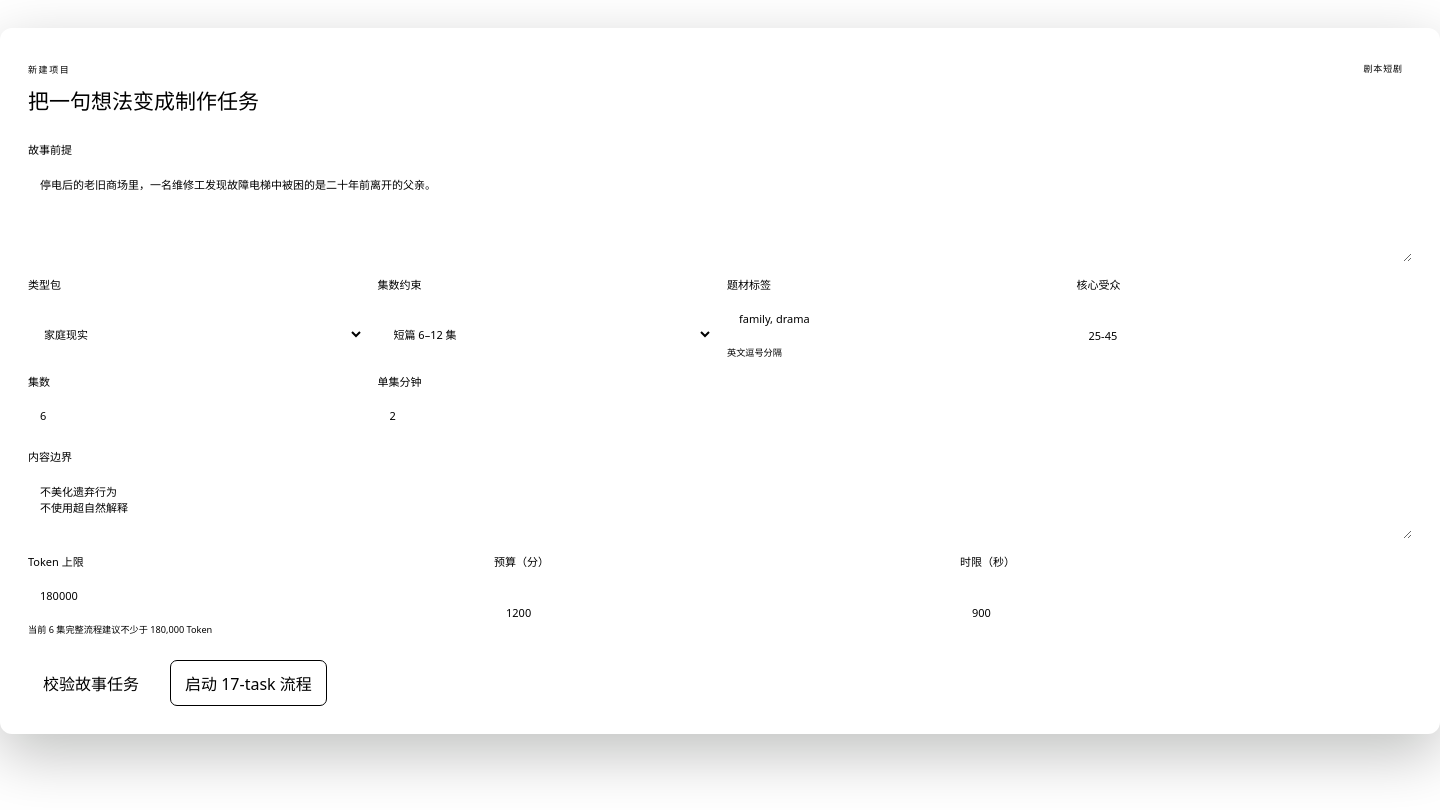
Test case: StoryJobForm › 任务校验 › 应该显示校验失败错误
Click the button "校验故事任务" at (91,683), box [28,660,154,706]
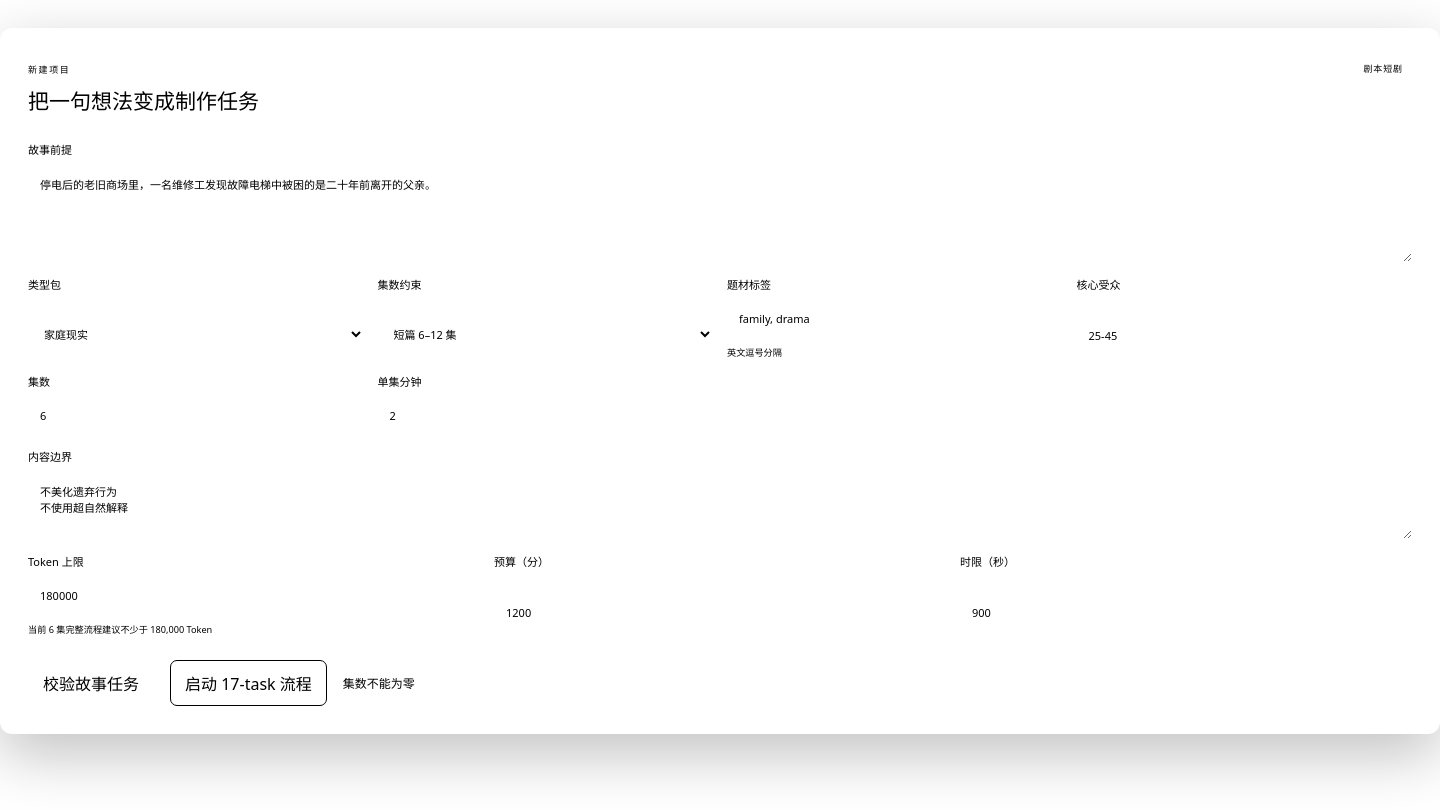
Now the text "集数不能为零" is shown, box [343,674,415,692]
